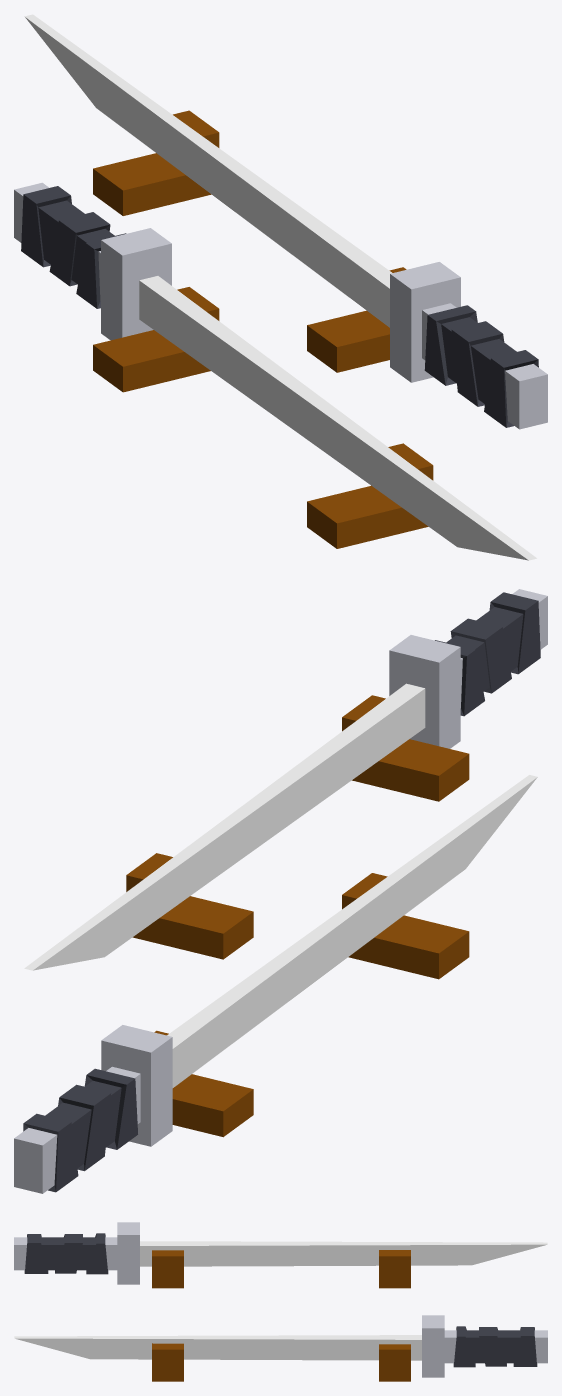
File: DecorSwords.fbx
3 renders of one model, top to bottom at view 1: azimuth 30°, elevation 25°; view 2: azimuth 150°, elevation 25°; view 3: azimuth 270°, elevation 25°, orthographic. The views are drawn at different scales.
Parts seen in each view (by area): view 1: Decor Swords; view 2: Decor Swords; view 3: Decor Swords.
Part boxes in pixels (left/top/right/bottom): Decor Swords: left=14, top=14, right=547, bottom=560; Decor Swords: left=14, top=589, right=547, bottom=1193; Decor Swords: left=14, top=1222, right=547, bottom=1381.
Size of the model in its own units: 55.48 by 150 by 502.
